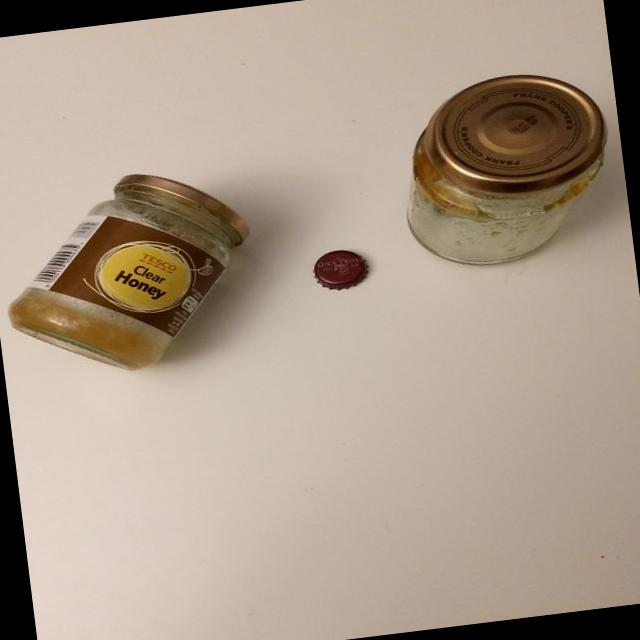Recycle: (0, 158, 264, 388), (390, 62, 621, 276), (308, 245, 372, 293)
